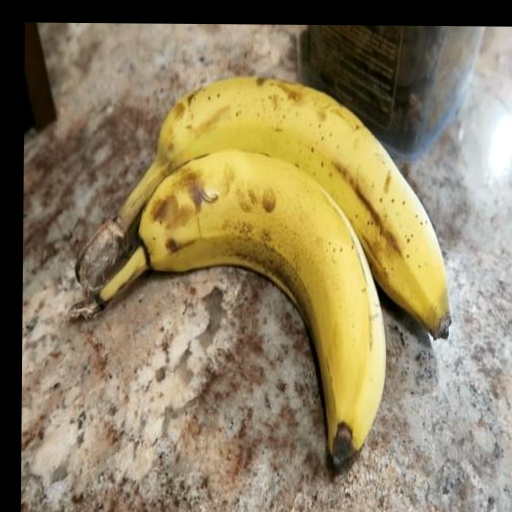fruit: (70, 151, 385, 465), (77, 78, 450, 337)
